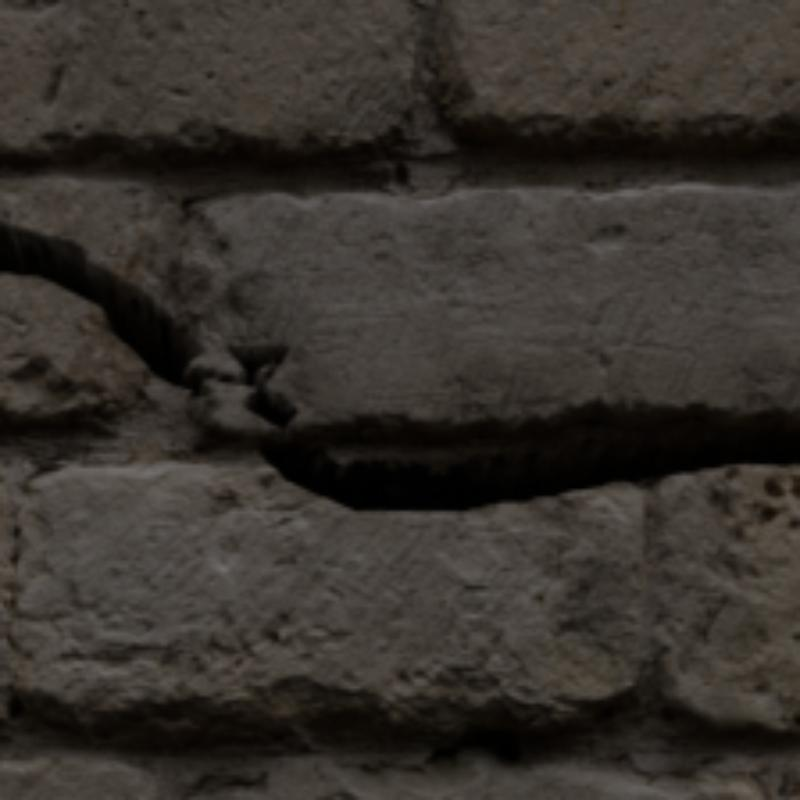pothole: (0, 221, 796, 507)
